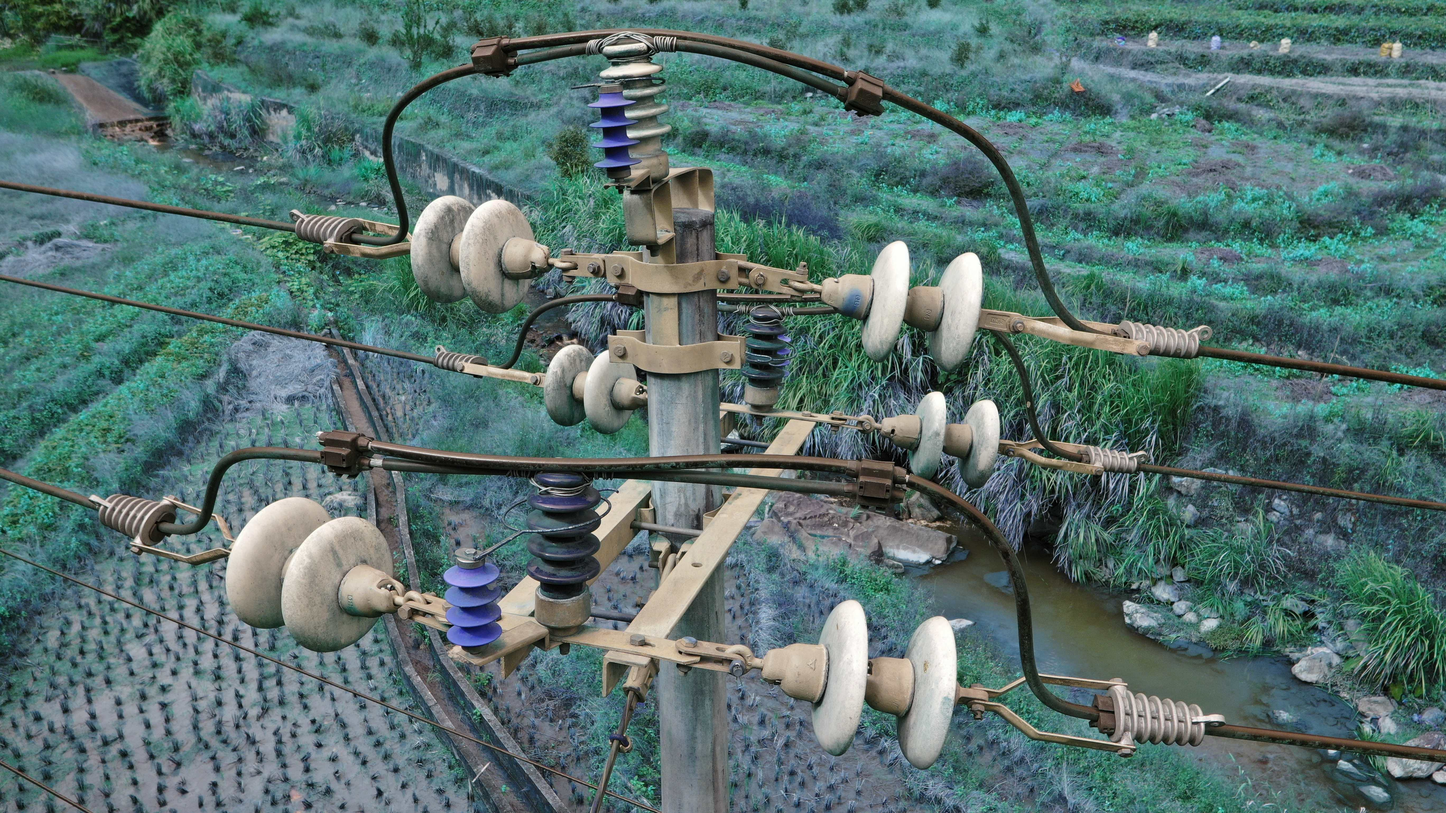severe_soiling_no_discharge_whole: (760, 597, 961, 773), (221, 496, 405, 656), (818, 233, 985, 373), (408, 195, 554, 318), (520, 470, 603, 633), (880, 387, 1006, 488), (595, 33, 675, 186), (540, 344, 647, 437), (738, 302, 793, 409)
